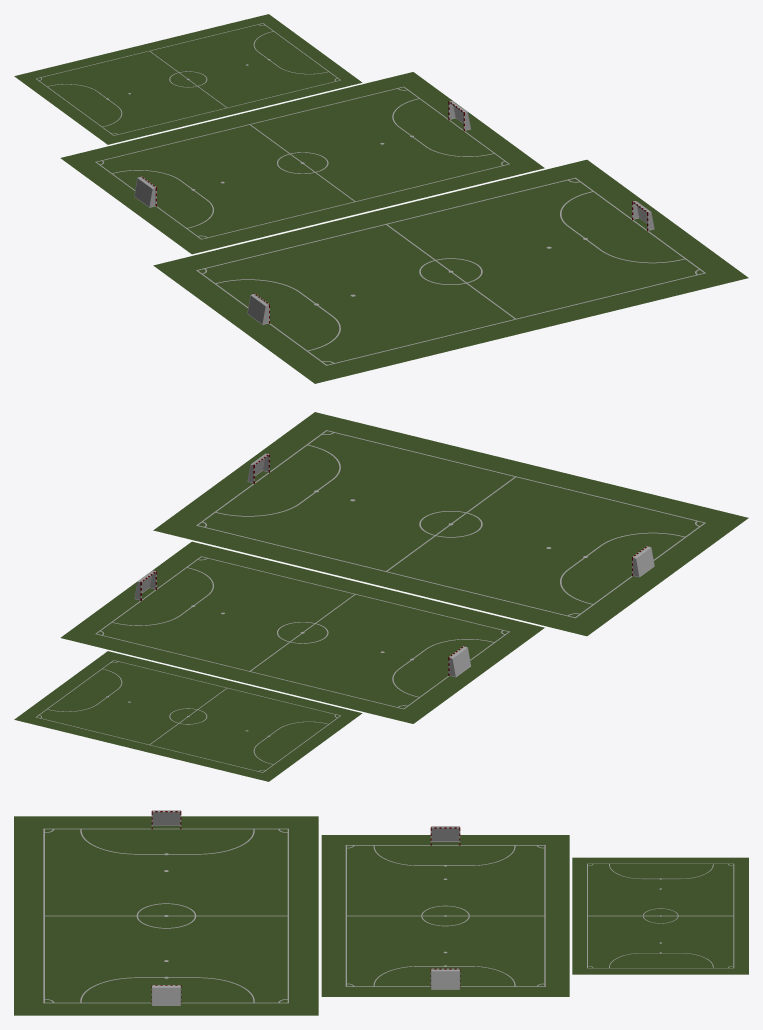
Rendered from MINI_football_.fbx.
3 views of the same model, one above another, from view 1: azimuth 30°, elevation 25°; view 2: azimuth 150°, elevation 25°; view 3: azimuth 270°, elevation 25° (orthographic). The views are drawn at different scales.
Visible parts, largest first — view 1: MINI_football_001, MINI_football_002, MINI_football_003; view 2: MINI_football_001, MINI_football_002, MINI_football_003; view 3: MINI_football_001, MINI_football_002, MINI_football_003.
Part boxes in pixels (x1,y1,x2,y2): MINI_football_001: (153,159,748,383); MINI_football_002: (60,72,544,254); MINI_football_003: (14,14,362,144); MINI_football_001: (153,412,748,636); MINI_football_002: (60,541,544,723); MINI_football_003: (14,651,362,781); MINI_football_001: (14,810,318,1015); MINI_football_002: (321,826,569,996); MINI_football_003: (572,857,748,974).
Bounding box in the file's own units: 4800 × 200 × 7481.
